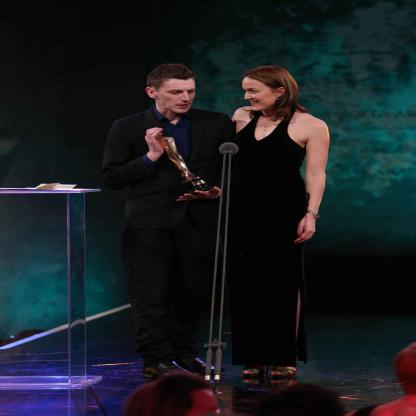face: (158, 73, 197, 115), (242, 77, 278, 113)
